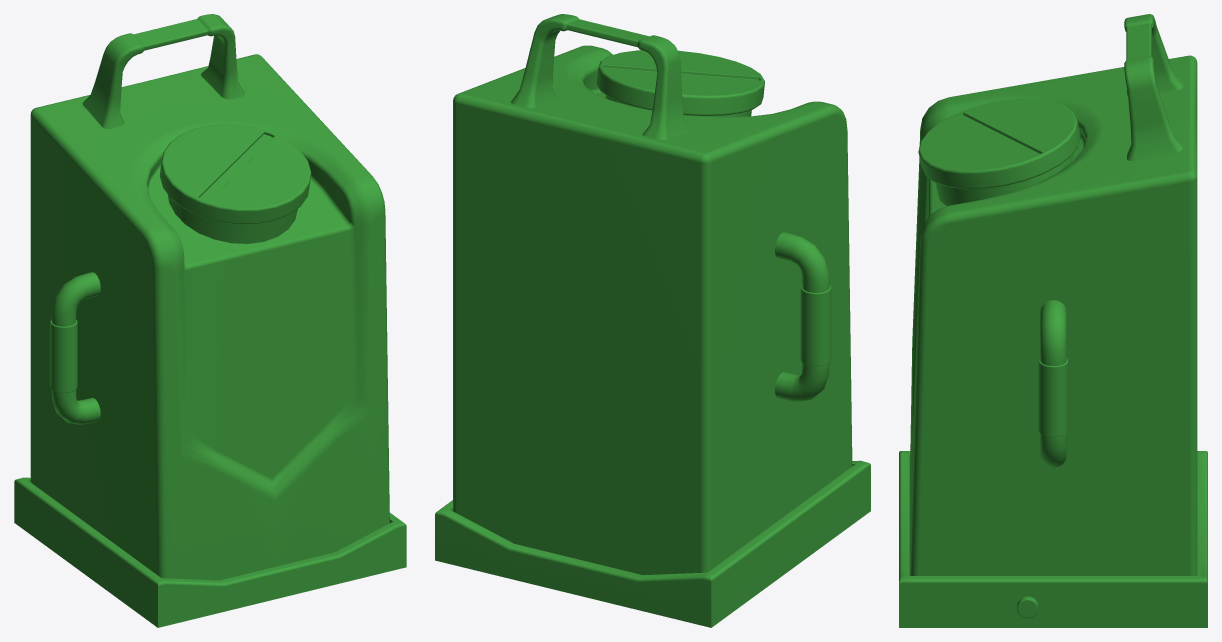
Rendered from SM_Backpack.fbx.
3 renders of one model, left to right at view 1: azimuth 30°, elevation 25°; view 2: azimuth 150°, elevation 25°; view 3: azimuth 270°, elevation 25°, orthographic. The views are drawn at different scales.
Visible parts, largest first — view 1: Backpack_low, Backpack_Base_low, Lid_low, Handle_Top_low, Handle_Sides_low, Lid_Base_low; view 2: Backpack_low, Backpack_Base_low, Lid_low, Handle_Top_low, Handle_Sides_low; view 3: Backpack_low, Backpack_Base_low, Lid_low, Handle_Top_low, Handle_Sides_low, Lid_Base_low.
Boxes of the visible parts, x1,y1,x2,y2 form: Backpack_low: (30, 54, 389, 580); Backpack_Base_low: (14, 477, 406, 627); Lid_low: (159, 124, 311, 224); Handle_Top_low: (82, 14, 244, 129); Handle_Sides_low: (50, 272, 100, 424); Lid_Base_low: (167, 194, 297, 243); Backpack_low: (453, 45, 852, 575); Backpack_Base_low: (435, 460, 870, 627); Lid_low: (596, 50, 764, 115); Handle_Top_low: (511, 14, 691, 140); Handle_Sides_low: (775, 232, 831, 401); Backpack_low: (909, 55, 1197, 575); Backpack_Base_low: (899, 451, 1207, 627); Lid_low: (918, 98, 1080, 189); Handle_Top_low: (1124, 14, 1183, 160); Handle_Sides_low: (1038, 300, 1068, 467); Lid_Base_low: (935, 153, 1073, 206).
Size of the model in its own units: 44.62 by 65.55 by 34.98.
